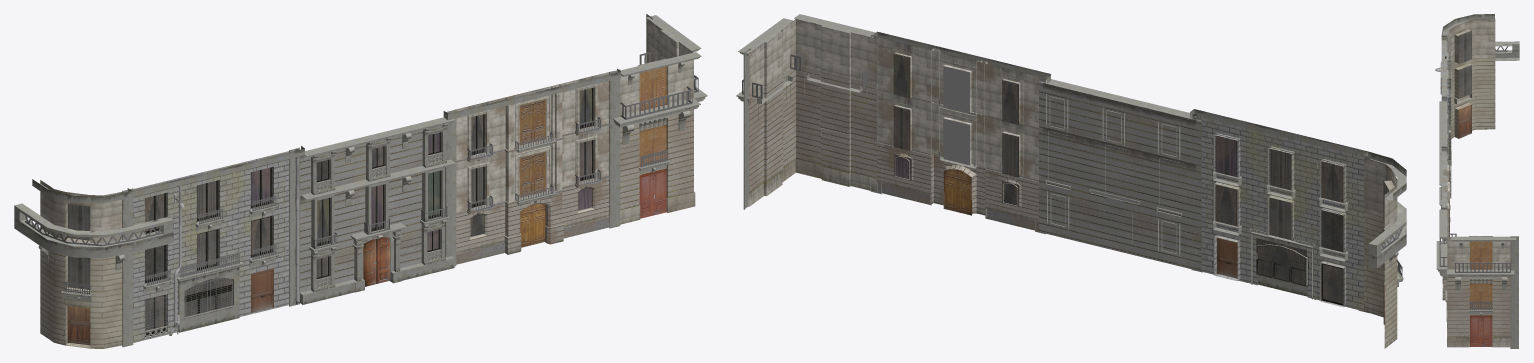
File: ParisBuildingsFull.fbx
3 views of the same model, side by side, from view 1: azimuth 30°, elevation 25°; view 2: azimuth 150°, elevation 25°; view 3: azimuth 270°, elevation 25° (orthographic). The views are drawn at different scales.
Parts seen in each view (by area): view 1: polySurface334, pPlane7, polySurface725, polySurface724, polySurface90, polySurface515, polySurface530, polySurface546, polySurface550, polySurface548, pCube55, polySurface373 (+41 smaller); view 2: pPlane7, polySurface724, polySurface334, polySurface530, polySurface515, polySurface725, polySurface550, polySurface546, polySurface602, polySurface548, polySurface90, polySurface374 (+22 smaller); view 3: polySurface724, polySurface725, pCube69, polySurface703, polySurface712, polySurface707, polySurface334, polySurface90, polySurface374, polySurface402, polySurface710, polySurface702 (+16 smaller).
Boxes of the visible parts, left/top/right/bottom form: polySurface334: left=133, top=151, right=288, bottom=342; pPlane7: left=300, top=129, right=422, bottom=292; polySurface725: left=40, top=180, right=122, bottom=348; polySurface724: left=620, top=19, right=695, bottom=224; polySurface90: left=14, top=203, right=173, bottom=257; polySurface515: left=456, top=125, right=609, bottom=212; polySurface530: left=452, top=71, right=613, bottom=160; polySurface546: left=456, top=201, right=505, bottom=264; polySurface550: left=562, top=175, right=609, bottom=238; polySurface548: left=504, top=189, right=563, bottom=254; pCube55: left=609, top=69, right=620, bottom=228; polySurface373: left=178, top=267, right=239, bottom=332; pPlane7: left=1039, top=82, right=1201, bottom=271; polySurface724: left=748, top=19, right=876, bottom=206; polySurface334: left=1201, top=117, right=1363, bottom=311; polySurface530: left=876, top=37, right=1038, bottom=127; polySurface515: left=877, top=89, right=1038, bottom=180; polySurface725: left=1364, top=157, right=1397, bottom=348; polySurface550: left=877, top=141, right=931, bottom=205; polySurface546: left=985, top=167, right=1038, bottom=231; polySurface602: left=1256, top=238, right=1306, bottom=286; polySurface548: left=930, top=154, right=986, bottom=218; polySurface90: left=1368, top=201, right=1406, bottom=268; polySurface374: left=1190, top=109, right=1367, bottom=156; polySurface724: left=1447, top=217, right=1510, bottom=347; polySurface725: left=1447, top=18, right=1495, bottom=138; pCube69: left=1510, top=236, right=1518, bottom=348; polySurface703: left=1470, top=315, right=1492, bottom=346; polySurface712: left=1470, top=241, right=1492, bottom=269; polySurface707: left=1470, top=283, right=1492, bottom=308; polySurface334: left=1447, top=52, right=1451, bottom=198; polySurface90: left=1440, top=41, right=1519, bottom=94; polySurface374: left=1441, top=35, right=1447, bottom=101; polySurface402: left=1439, top=101, right=1447, bottom=154; polySurface710: left=1447, top=269, right=1514, bottom=276; polySurface702: left=1455, top=260, right=1510, bottom=272.
Size of the model in its own units: 3998 by 938 by 633.
